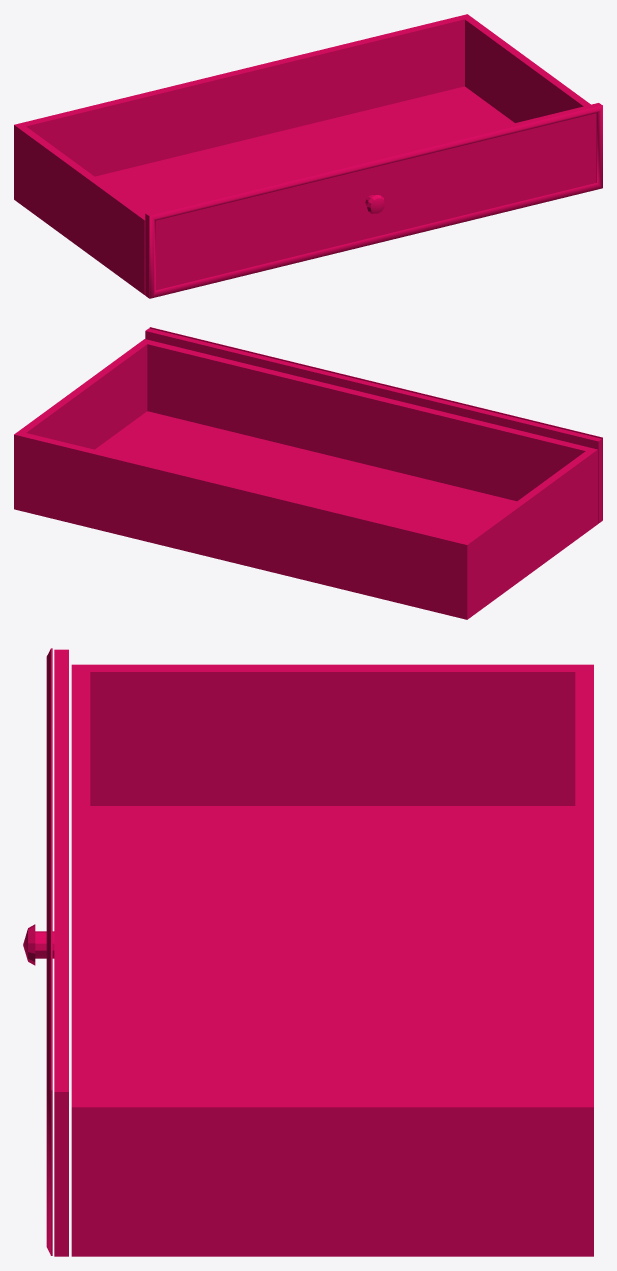
The model's file is Kitchen_Cupboard_12_Drawer.fbx.
The picture shows the model from 3 angles, top to bottom: view 1: azimuth 30°, elevation 25°; view 2: azimuth 150°, elevation 25°; view 3: azimuth 270°, elevation 25°; orthographic projection. The views are drawn at different scales.
Visible parts, largest first — view 1: Kitchen_Cupboard_12_Drawer; view 2: Kitchen_Cupboard_12_Drawer; view 3: Kitchen_Cupboard_12_Drawer.
Part boxes in pixels (x1,y1,x2,y2): Kitchen_Cupboard_12_Drawer: [14, 14, 602, 298]; Kitchen_Cupboard_12_Drawer: [14, 327, 602, 619]; Kitchen_Cupboard_12_Drawer: [23, 648, 593, 1256].
Bounding box in the file's own units: 95.91 × 16.79 × 52.31.
